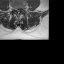CCS_normal: (17, 7, 19, 15)
LFS_severe_stenosis: (21, 6, 23, 12)
LLS_severe_stenosis: (19, 7, 21, 13)
RFS_stenosis: (13, 6, 15, 11)
RLS_stenosis: (15, 6, 17, 12)
